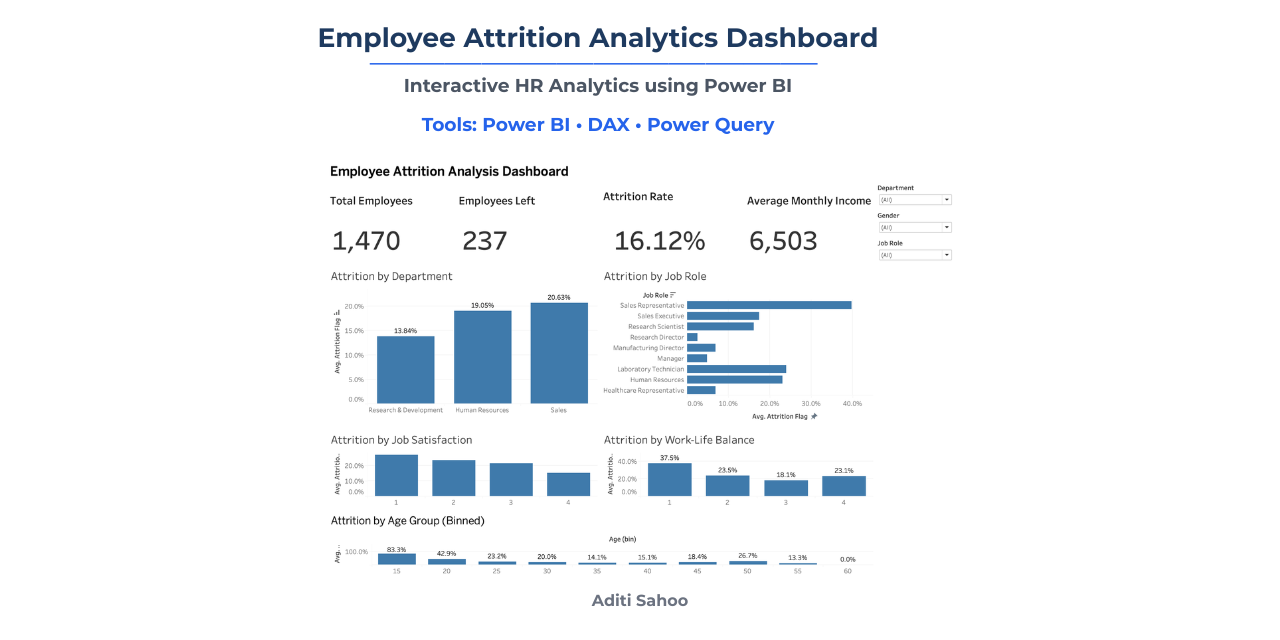

This screenshot's page, from the dashboard's own definition file:
{"tool":"tableau","page":{"name":"Employee Attrition Dashboard","canvas":[1000,1000],"units":"permille","ordinal":0},"visuals":[{"type":"title","box":[6.7,11,986.7,50.7]},{"type":"text","box":[6.7,61.6,201.8,91.2]},{"type":"text","box":[208.4,61.6,227,91.2]},{"type":"text","box":[435.4,61.6,225.3,91.2]},{"type":"text","box":[660.7,61.6,206.8,91.2]},{"type":"filter","title":"Attrition Rate by Department","param":"[federated.0sya9i61rpldsu13pf0zv1a7d35f].[none:Department:nk]","box":[867.5,61.6,125.8,71.2]},{"type":"filter","title":"Attrition Rate by Department","param":"[federated.0sya9i61rpldsu13pf0zv1a7d35f].[none:Gender:nk]","box":[867.5,132.9,125.8,71.2]},{"type":"worksheet","title":"Total Empoyees","mark":"Automatic","box":[6.7,152.8,201.8,101.4]},{"type":"worksheet","title":"Employees Left","mark":"Automatic","box":[208.4,152.8,227,102.5]},{"type":"worksheet","title":"Attrition Rate KPI","mark":"Automatic","box":[435.4,152.8,225.3,102.5]},{"type":"worksheet","title":"Avg Monthly Income KPI","mark":"Automatic","box":[660.7,152.8,206.8,102.5]},{"type":"filter","title":"Attrition Rate by Job Role","param":"[federated.0sya9i61rpldsu13pf0zv1a7d35f].[none:JobRole:nk]","box":[867.5,204.1,125.8,71.2]},{"type":"worksheet","title":"Attrition Rate by Department","mark":"Automatic","rows":["Calculation_4864260663525376"],"cols":["Department"],"box":[6.7,255.3,402.1,382.4]},{"type":"worksheet","title":"Avg Monthly Income by Attrition","mark":"Automatic","cols":["Attrition"],"box":[408.7,255.3,26.7,382.4]},{"type":"worksheet","title":"Attrition Rate by Job Role","mark":"Automatic","rows":["JobRole"],"cols":["Calculation_4864260663525376"],"box":[435.4,255.3,432.1,382.4]},{"type":"legend","title":"Avg Monthly Income by Attrition","param":"[federated.0sya9i61rpldsu13pf0zv1a7d35f].[:Measure Names]","box":[867.5,275.3,125.8,90.4]},{"type":"worksheet","title":"Attrition Rate by Job Satisfaction","mark":"Automatic","rows":["Calculation_4864260663525376"],"cols":["JobSatisfaction"],"box":[6.7,637.6,428.3,191.2]},{"type":"worksheet","title":"Attrition Rate by Work Life Balance","mark":"Automatic","rows":["Calculation_4864260663525376"],"cols":["WorkLifeBalance"],"box":[435,637.6,432.5,191.2]},{"type":"worksheet","title":"Attrition Rate by Age group","mark":"Automatic","rows":["Calculation_4864260663525376"],"cols":["Age (bin)"],"box":[6.7,828.8,860.8,160.2]}]}

Visuals, with their boxes on the dashboard's canvas, which has no fixed pixel size, in thousandths of its width and height (x1, y1, x2, y2). These are canvas units, not pixel positions in the 1280x640 screenshot, which may show the page scaled, cropped or inside an application window:
title: (7, 11, 993, 62)
text: (7, 62, 208, 153)
text: (208, 62, 435, 153)
text: (435, 62, 661, 153)
text: (661, 62, 868, 153)
"Attrition Rate by Department" filter: (868, 62, 993, 133)
"Attrition Rate by Department" filter: (868, 133, 993, 204)
"Total Empoyees" worksheet: (7, 153, 208, 254)
"Employees Left" worksheet: (208, 153, 435, 255)
"Attrition Rate KPI" worksheet: (435, 153, 661, 255)
"Avg Monthly Income KPI" worksheet: (661, 153, 868, 255)
"Attrition Rate by Job Role" filter: (868, 204, 993, 275)
"Attrition Rate by Department" worksheet: (7, 255, 409, 638)
"Avg Monthly Income by Attrition" worksheet: (409, 255, 435, 638)
"Attrition Rate by Job Role" worksheet: (435, 255, 868, 638)
"Avg Monthly Income by Attrition" legend: (868, 275, 993, 366)
"Attrition Rate by Job Satisfaction" worksheet: (7, 638, 435, 829)
"Attrition Rate by Work Life Balance" worksheet: (435, 638, 868, 829)
"Attrition Rate by Age group" worksheet: (7, 829, 868, 989)
